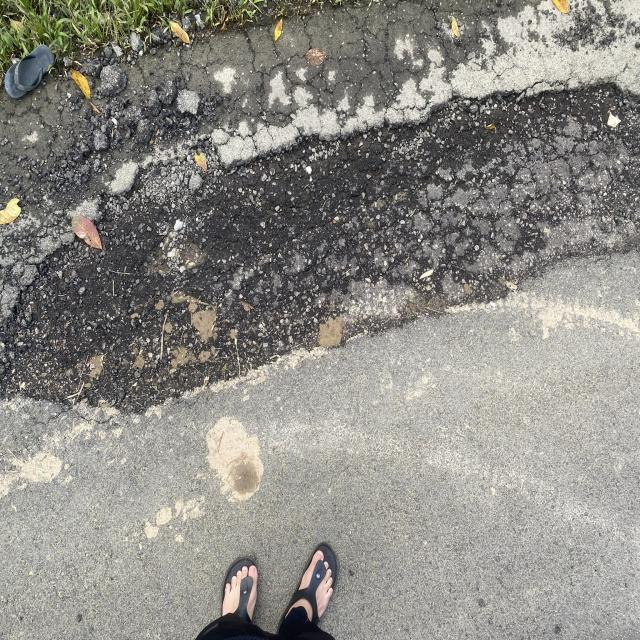pothole: (3, 57, 640, 437)
